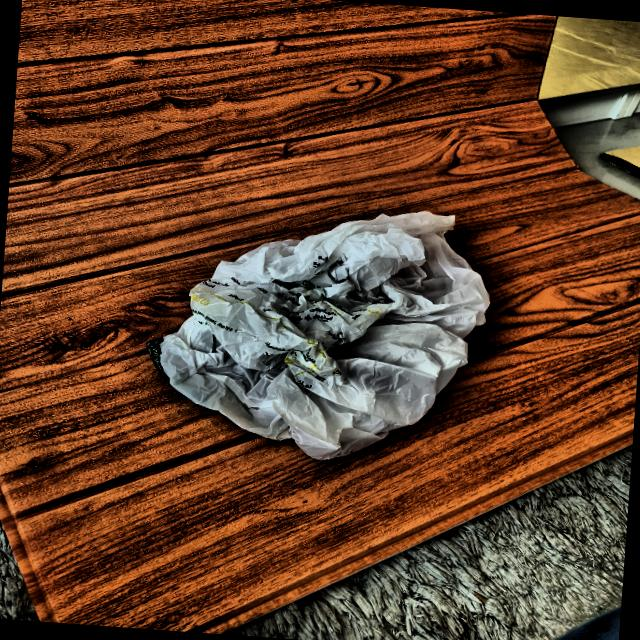plastic bag: (142, 192, 489, 467)
